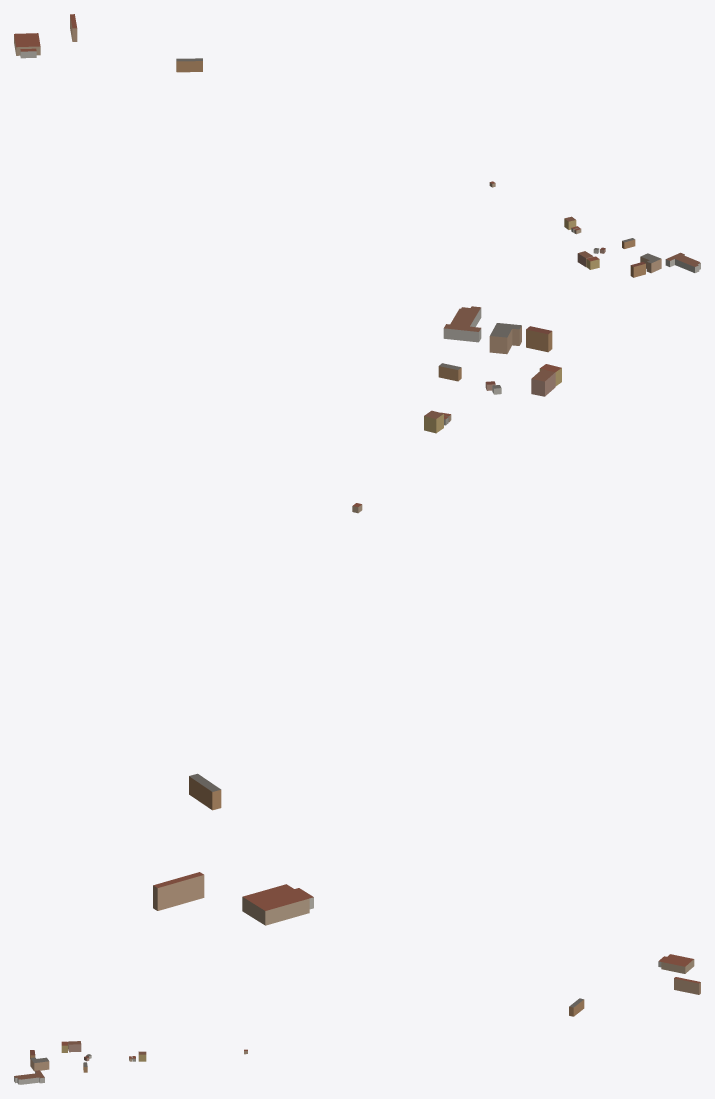
Rendered from SM_Fondale_Citta_S_01.fbx.
3 views of the same model, one above another, from view 1: azimuth 30°, elevation 25°; view 2: azimuth 150°, elevation 25°; view 3: azimuth 270°, elevation 25° (orthographic). The views are drawn at different scales.
Parts seen in each view (by area): view 1: SM_Fondale_Citta_S_01; view 2: SM_Fondale_Citta_S_01; view 3: SM_Fondale_Citta_S_01.
Part boxes in pixels (<box>): SM_Fondale_Citta_S_01: <box>14,14,700,277</box>; SM_Fondale_Citta_S_01: <box>153,306,561,925</box>; SM_Fondale_Citta_S_01: <box>14,954,700,1084</box>.
Bounding box in the file's own units: 42789 × 101923 × 1883.
